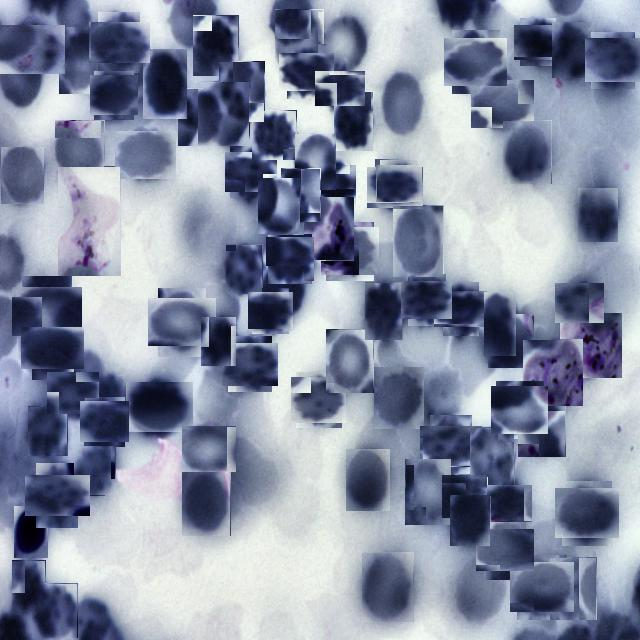leukocyte: (14, 506, 48, 558)
red blood cell: (393, 205, 444, 277), (362, 552, 414, 622), (17, 281, 77, 341), (130, 377, 189, 436), (318, 12, 370, 78), (153, 294, 211, 352), (513, 558, 571, 616), (2, 20, 60, 78), (182, 468, 231, 536), (558, 485, 616, 542), (379, 70, 426, 139), (55, 120, 105, 183), (405, 458, 452, 525), (275, 9, 324, 73), (118, 127, 174, 183), (475, 76, 531, 132), (448, 34, 504, 90), (503, 120, 552, 184), (518, 392, 566, 457), (374, 367, 424, 429), (59, 27, 105, 94), (143, 49, 187, 119), (326, 329, 374, 393), (203, 81, 250, 146), (550, 557, 597, 620), (30, 468, 84, 522), (346, 448, 391, 511), (26, 322, 80, 374), (193, 15, 239, 76), (219, 61, 265, 122), (324, 225, 376, 278), (470, 427, 515, 488), (425, 420, 477, 472), (93, 16, 145, 68), (494, 384, 546, 436), (178, 88, 224, 146), (294, 375, 344, 426), (32, 583, 78, 638), (225, 339, 275, 389), (480, 526, 530, 576), (588, 36, 638, 86), (184, 424, 234, 474), (1, 147, 44, 205), (488, 314, 534, 368), (552, 22, 596, 78), (371, 163, 420, 212), (334, 91, 374, 151), (258, 178, 300, 234), (295, 134, 336, 190), (49, 370, 97, 417), (252, 110, 297, 160), (283, 48, 330, 95), (266, 236, 314, 282), (365, 282, 403, 340), (81, 399, 128, 445), (281, 168, 321, 222), (578, 188, 618, 242), (262, 266, 304, 317), (74, 445, 116, 496), (228, 149, 274, 195), (438, 286, 484, 332), (484, 292, 516, 356), (450, 495, 490, 546), (404, 278, 450, 322), (558, 280, 602, 326), (28, 406, 68, 456), (311, 163, 355, 207), (486, 482, 530, 526), (442, 474, 486, 518), (92, 74, 136, 118), (318, 66, 361, 110), (12, 560, 46, 615), (226, 244, 263, 294), (201, 316, 237, 366), (378, 162, 420, 204), (250, 290, 292, 332), (517, 21, 559, 63)
trophozoite: (58, 166, 121, 276), (560, 314, 622, 379), (523, 340, 583, 406), (304, 198, 354, 262)
